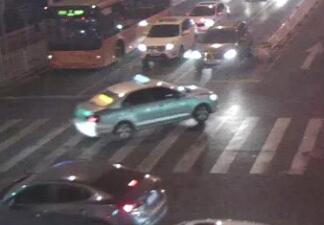bus: (40, 0, 173, 68)
car: (0, 156, 170, 225), (74, 71, 220, 139), (137, 15, 199, 63), (195, 18, 251, 70), (189, 2, 231, 32)
